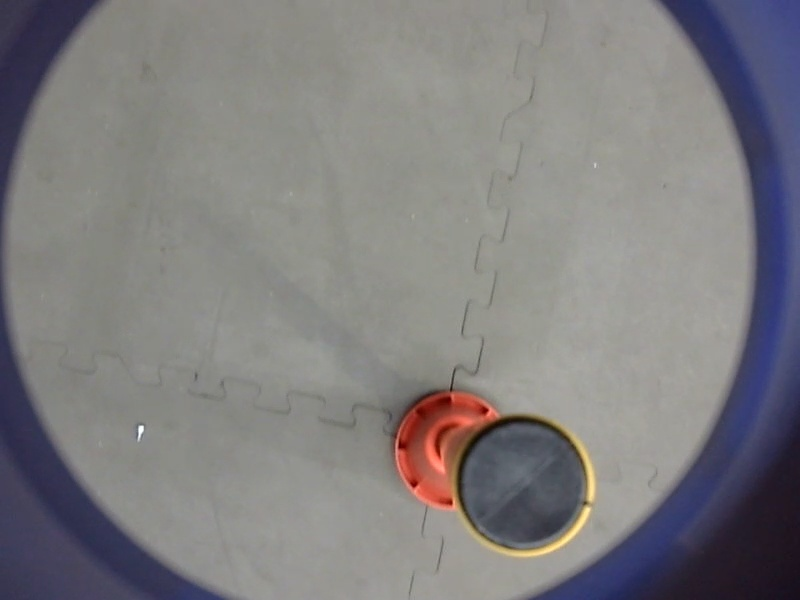tip: (446, 412, 598, 561)
